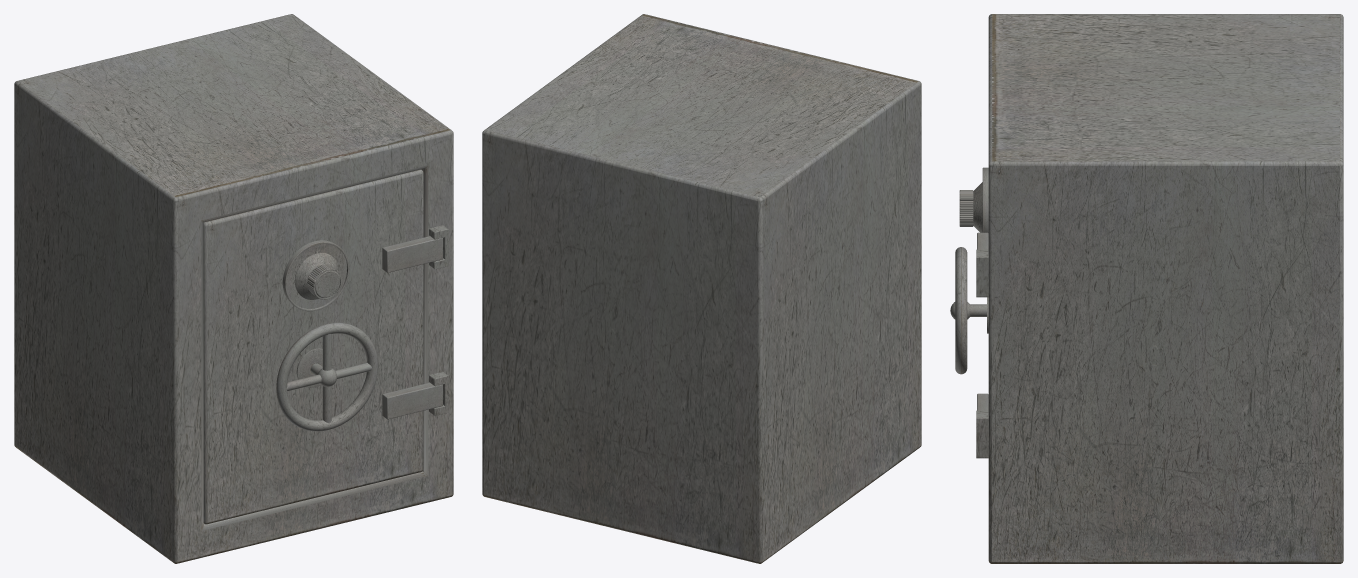
Rendered from Safe.fbx.
The picture shows the model from 3 angles, left to right: view 1: azimuth 30°, elevation 25°; view 2: azimuth 150°, elevation 25°; view 3: azimuth 270°, elevation 25°; orthographic projection. The views are drawn at different scales.
Parts seen in each view (by area): view 1: Bank_Safe_Main, Bank_Safe_Door, Hand, Arms, Lock, Knob, Bank_Safe_Jt; view 2: Bank_Safe_Main; view 3: Bank_Safe_Main, Hand, Bank_Safe_Jt, Knob.
Boxes of the visible parts, left/top/right/bottom form: Bank_Safe_Main: left=14, top=14, right=453, bottom=563; Bank_Safe_Door: left=203, top=169, right=423, bottom=524; Hand: left=276, top=322, right=378, bottom=431; Arms: left=382, top=236, right=442, bottom=419; Lock: left=282, top=240, right=349, bottom=311; Knob: left=294, top=248, right=342, bottom=299; Bank_Safe_Jt: left=429, top=225, right=448, bottom=415; Bank_Safe_Main: left=482, top=14, right=921, bottom=563; Bank_Safe_Main: left=988, top=14, right=1343, bottom=563; Hand: left=950, top=247, right=988, bottom=374; Bank_Safe_Jt: left=976, top=249, right=988, bottom=458; Knob: left=959, top=182, right=982, bottom=232.
Size of the model in its own units: 120 by 150 by 133.
Materials: 1 (1 with a texture image).
